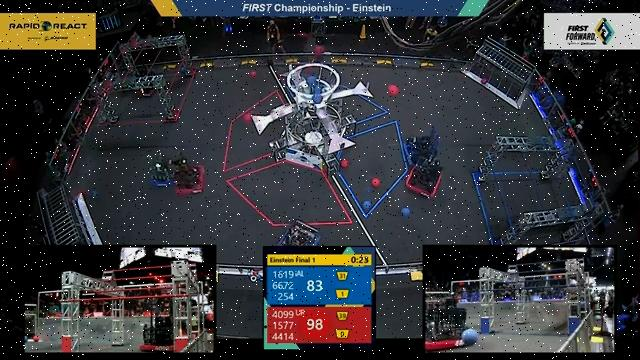Robot: (391, 124, 453, 166), (263, 214, 328, 252), (401, 154, 452, 201), (171, 150, 210, 197), (127, 56, 163, 101), (133, 151, 172, 191)
